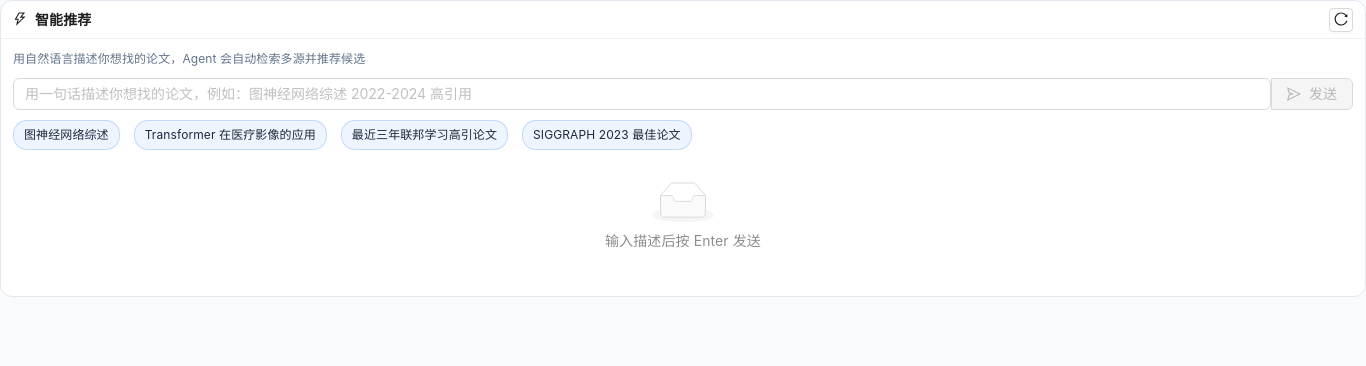
Test: SmartSearchPanel › surfaces a stream error in an alert
This screenshot has width=1366, height=366.
Type "foo" into the text box with placeholder "用一句话描述你想找的论文，例如：图神经网络综述 2022-2024 高引用" at (642, 94), box x1=13 y1=78 x2=1271 y2=110
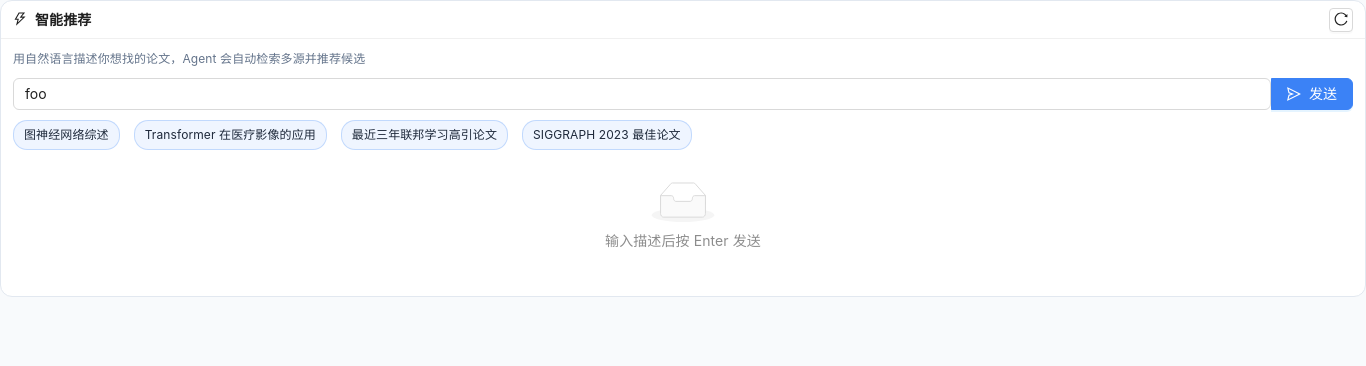
Click the button "发送" at (1312, 94), box x1=1271 y1=78 x2=1353 y2=110
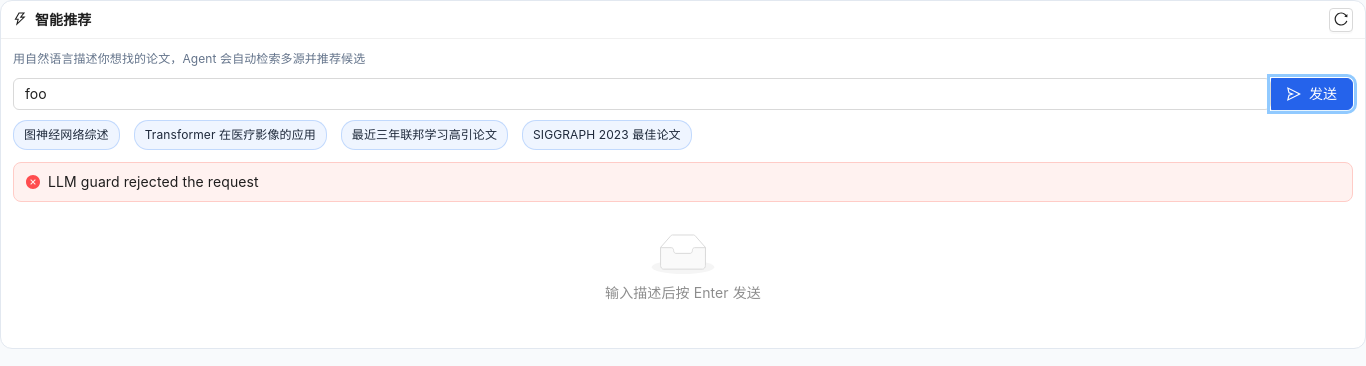
Expected: the text "LLM guard rejected the request" is shown, x1=48 y1=173 x2=259 y2=190
